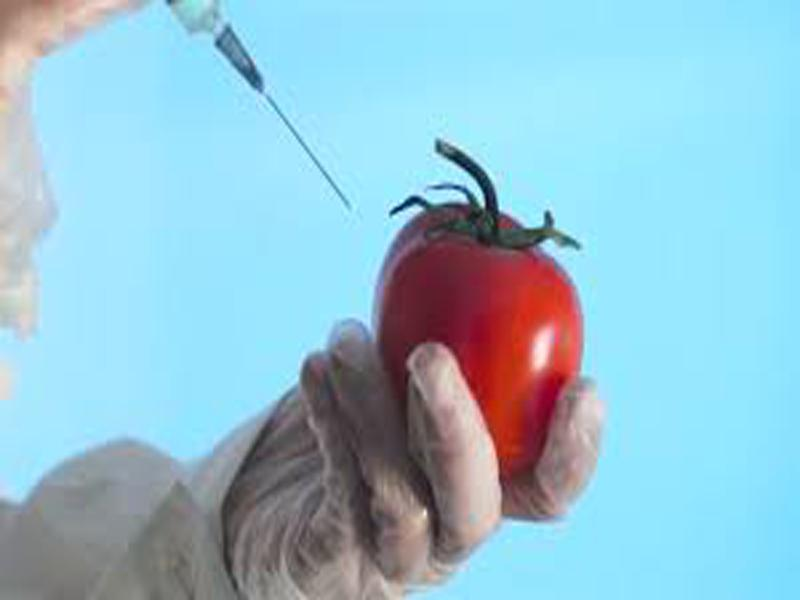Tomato: (376, 204, 584, 479)
